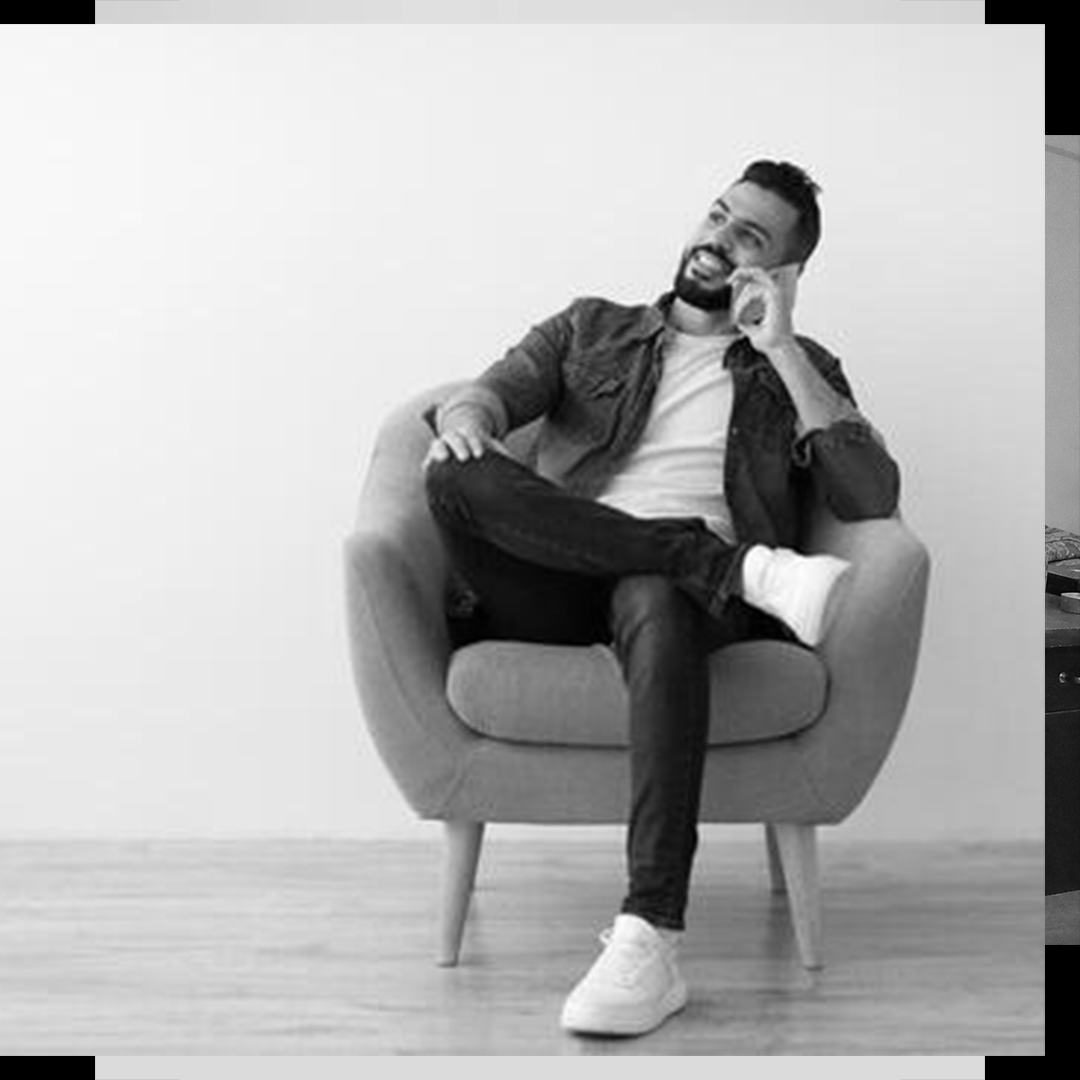distracted: (448, 71, 902, 685)
